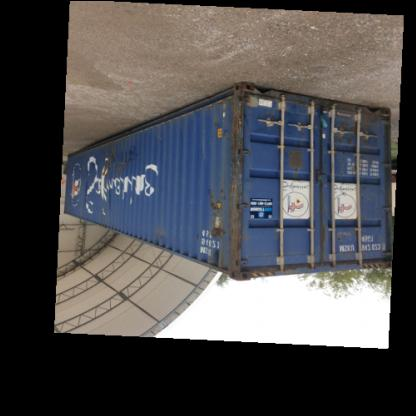Damage: (222, 95, 248, 189), (92, 143, 132, 178), (209, 190, 226, 246), (150, 225, 172, 249), (80, 184, 93, 208)
